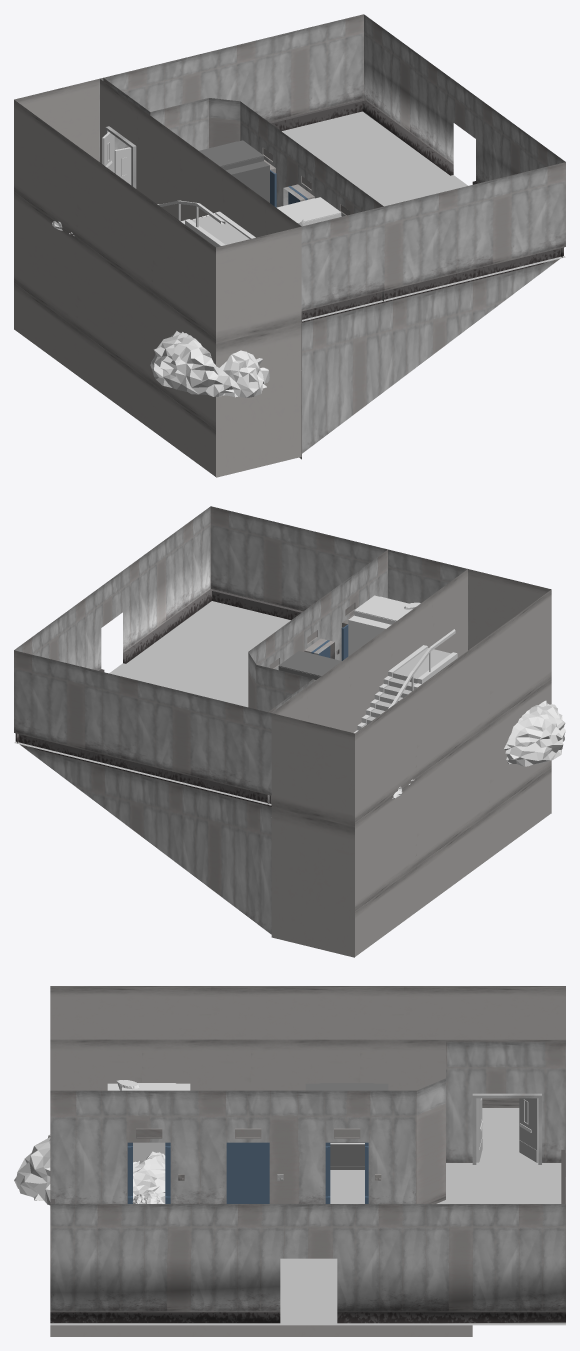
File: m_elevatorV5.fbx
3 views of the same model, one above another, from view 1: azimuth 30°, elevation 25°; view 2: azimuth 150°, elevation 25°; view 3: azimuth 270°, elevation 25° (orthographic). The views are drawn at different scales.
Parts seen in each view (by area): view 1: Plane.004, Plane.001, Plane.002, Plane.003, Plane, m_gen_rubbleB.002, Cube, Plane.006, Cube.002; view 2: Plane.004, Plane.001, Plane.002, Plane.003, Plane, m_gen_rubbleB.002, Plane.006, Cube.002, Cube; view 3: Plane.002, Plane.003, Plane.001, Plane, Cube.007, Plane.006, m_gen_rubbleB.002, Cube, m_gen_rubbleA.001, m_gen_doorV2.001, Cube.002.
Part boxes in pixels (bbox=[...]): Plane.004: bbox=[14, 14, 565, 477]; Plane.001: bbox=[14, 100, 215, 476]; Plane.002: bbox=[100, 78, 383, 459]; Plane.003: bbox=[362, 14, 565, 257]; Plane: bbox=[282, 111, 565, 321]; m_gen_rubbleB.002: bbox=[150, 331, 269, 397]; Cube: bbox=[199, 140, 269, 202]; Plane.006: bbox=[157, 200, 255, 247]; Cube.002: bbox=[276, 197, 341, 225]; Plane.004: bbox=[14, 506, 551, 957]; Plane.001: bbox=[355, 589, 551, 956]; Plane.002: bbox=[248, 550, 467, 805]; Plane.003: bbox=[14, 506, 213, 743]; Plane: bbox=[14, 601, 290, 805]; m_gen_rubbleB.002: bbox=[503, 700, 565, 766]; Plane.006: bbox=[354, 629, 457, 733]; Cube.002: bbox=[348, 595, 412, 656]; Cube: bbox=[278, 651, 341, 681]; Plane.002: bbox=[50, 1039, 565, 1336]; Plane.003: bbox=[50, 1204, 565, 1323]; Plane.001: bbox=[50, 986, 565, 1107]; Plane: bbox=[50, 1160, 565, 1325]; Cube.007: bbox=[226, 1142, 269, 1203]; Plane.006: bbox=[480, 1108, 532, 1160]; m_gen_rubbleB.002: bbox=[14, 1134, 50, 1205]; Cube: bbox=[305, 1083, 388, 1169]; m_gen_rubbleA.001: bbox=[133, 1151, 165, 1198]; m_gen_doorV2.001: bbox=[519, 1098, 538, 1162]; Cube.002: bbox=[107, 1083, 190, 1162].
Bounding box in the file's own units: 1657 × 955 × 1605.
